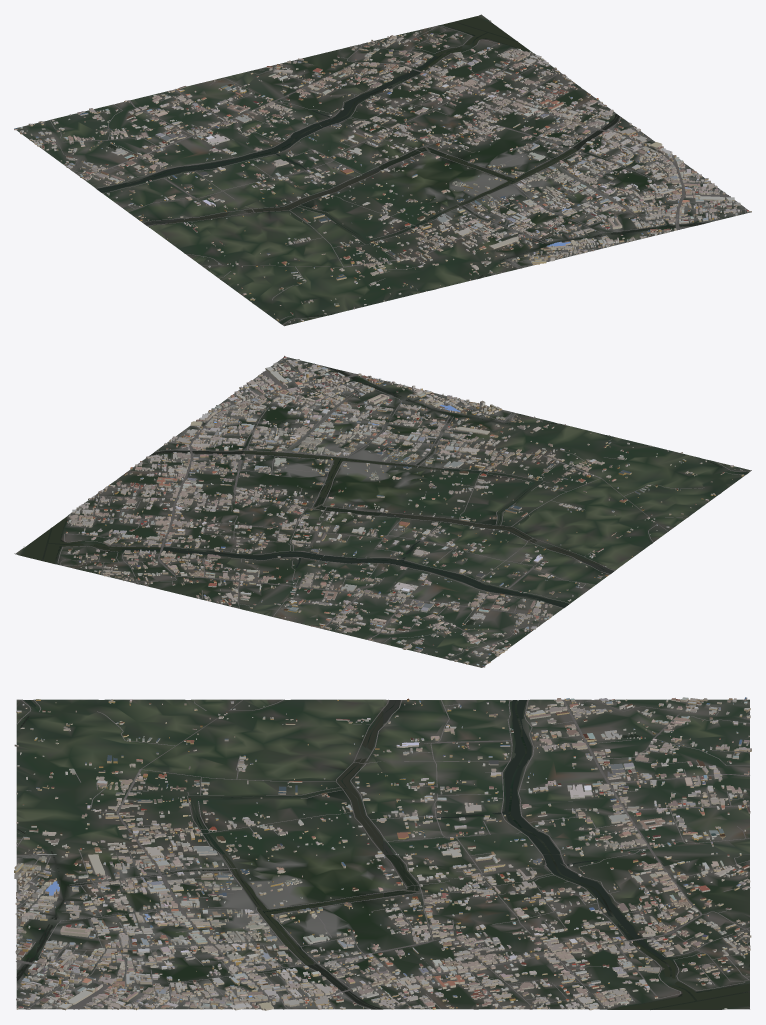
3 renders of one model, top to bottom at view 1: azimuth 30°, elevation 25°; view 2: azimuth 150°, elevation 25°; view 3: azimuth 270°, elevation 25°, orthographic. The views are drawn at different scales.
Visible parts, largest first — view 1: ground, buildings, roads, water; view 2: ground, buildings, roads, water; view 3: ground, buildings, roads, water.
Part boxes in pixels (left/top/right/bottom): ground: left=15, top=15, right=751, bottom=325; buildings: left=14, top=20, right=751, bottom=322; roads: left=16, top=14, right=747, bottom=325; water: left=96, top=16, right=707, bottom=323; ground: left=15, top=357, right=751, bottom=667; buildings: left=23, top=355, right=743, bottom=667; roads: left=14, top=358, right=751, bottom=663; water: left=20, top=367, right=748, bottom=624; ground: left=16, top=699, right=749, bottom=1009; buildings: left=14, top=697, right=751, bottom=1010; roads: left=16, top=699, right=749, bottom=1009; water: left=16, top=700, right=749, bottom=1009.
Bounding box in the file's own units: 2819 × 30.11 × 2819.
